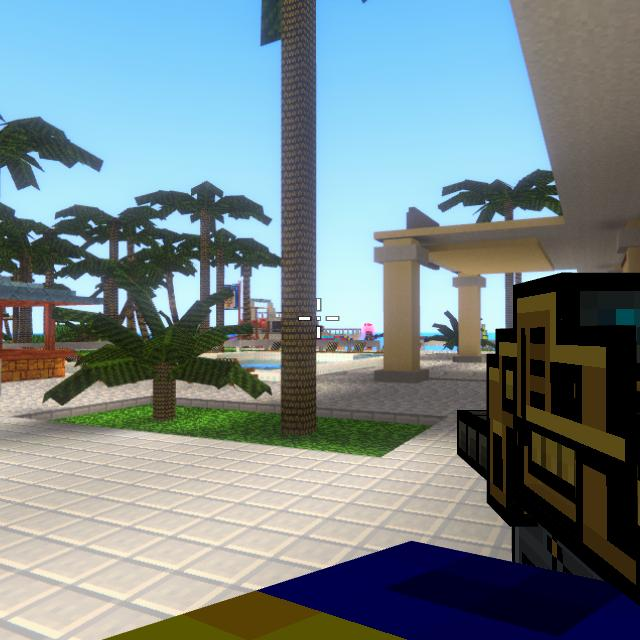Enemy: (364, 329, 373, 351)
